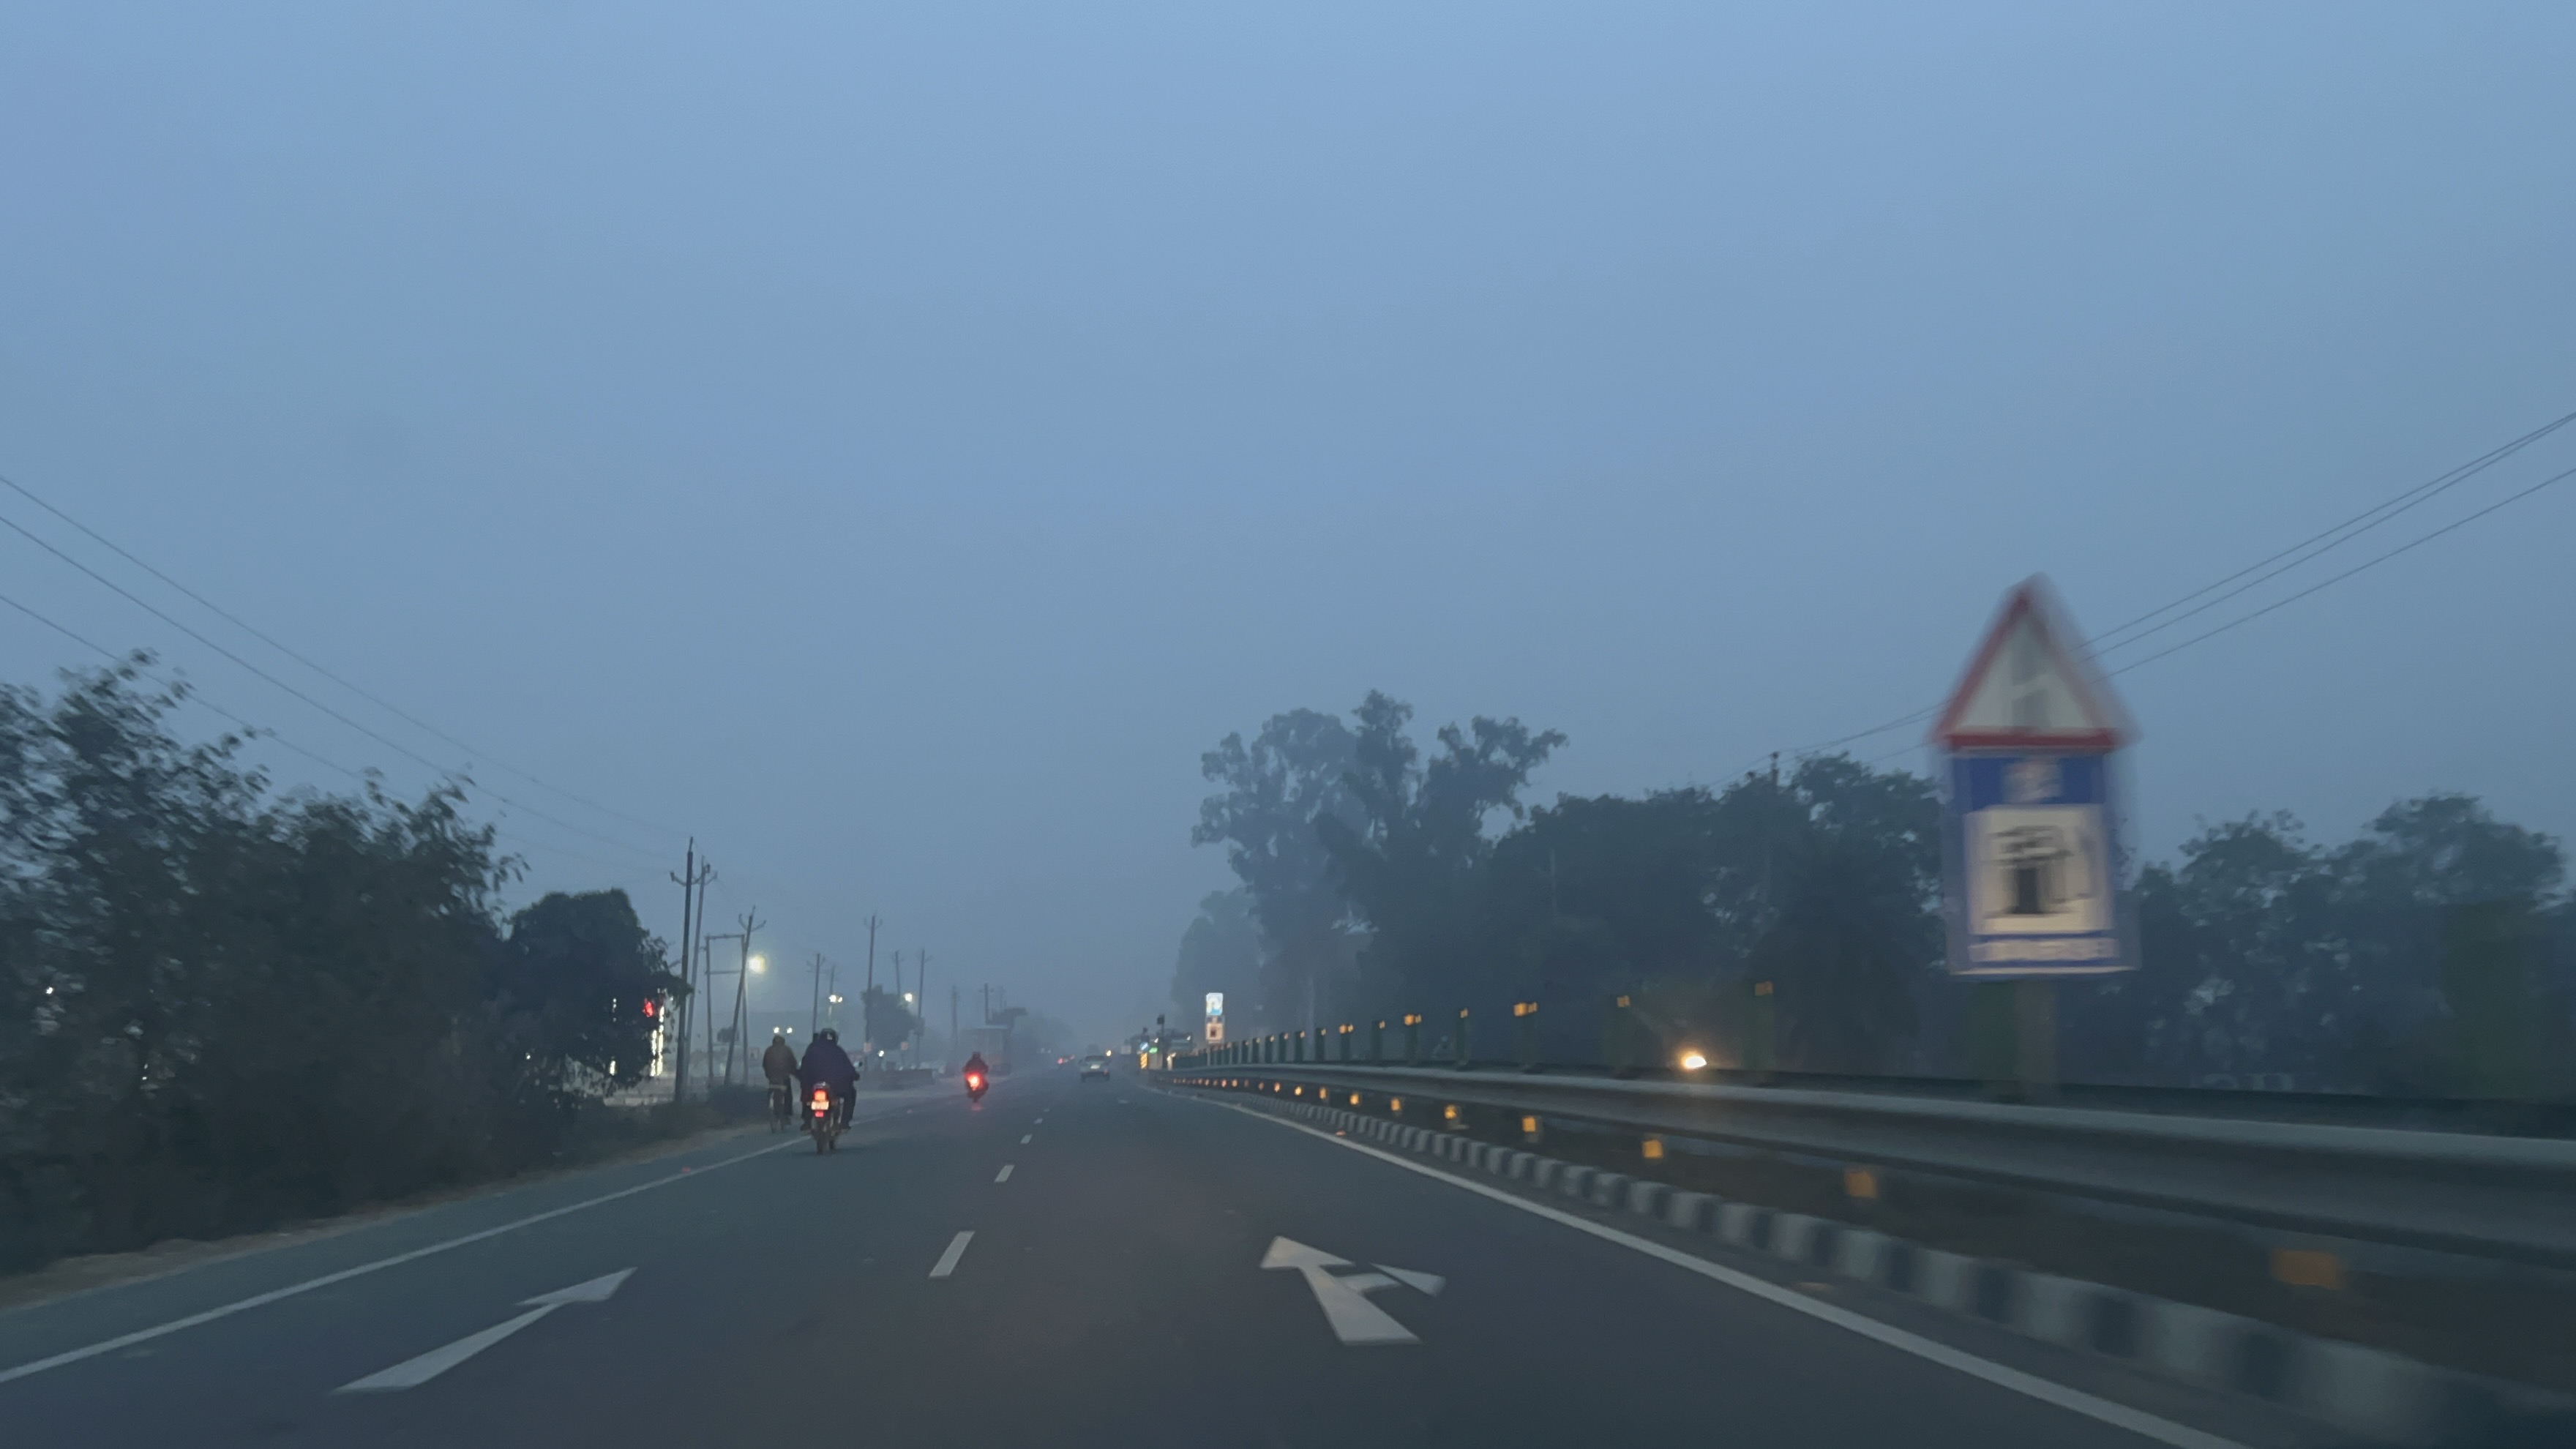Informatory: (1205, 989, 1226, 1046)
Regulatory: (1939, 747, 2139, 989)
Warning: (1923, 563, 2151, 752)
